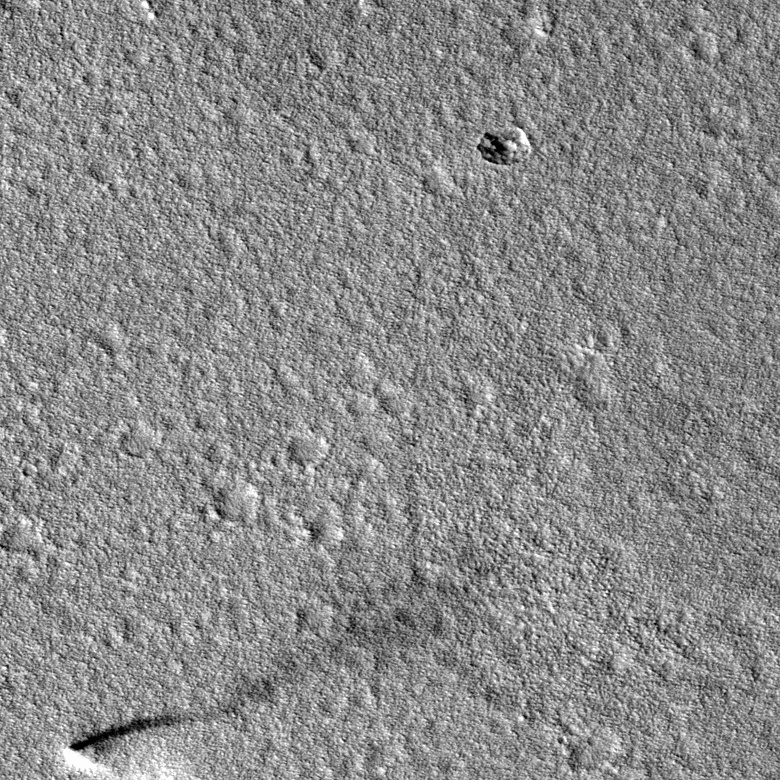dust_devil: (59, 705, 236, 777)
